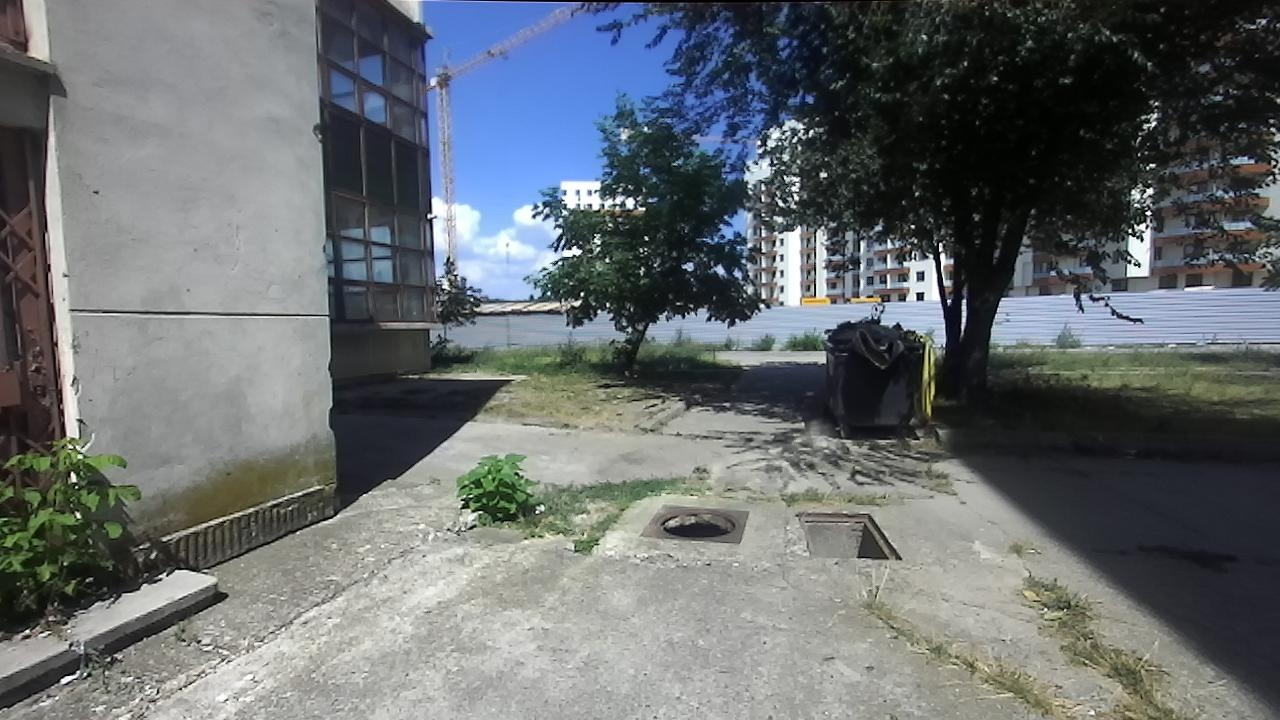drain: (794, 507, 903, 563), (650, 506, 739, 539)
